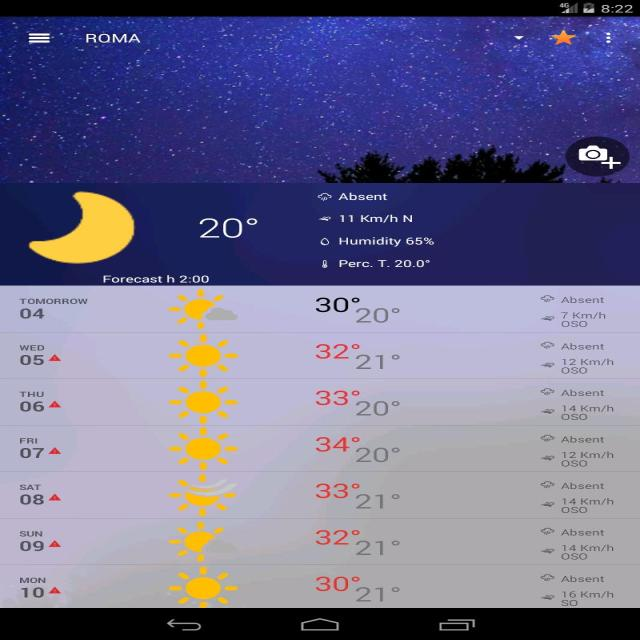button: (0, 519, 640, 568), (0, 472, 640, 519), (0, 426, 640, 472), (3, 333, 640, 379), (3, 380, 640, 426), (3, 287, 640, 331), (1, 569, 640, 607), (565, 136, 627, 173), (555, 26, 585, 50), (24, 29, 56, 50), (596, 27, 620, 49)
heading: (85, 29, 146, 47)
image: (3, 14, 639, 287), (165, 289, 240, 607), (24, 191, 153, 264)
text: (336, 188, 439, 273), (302, 382, 413, 418), (312, 524, 407, 563), (310, 430, 410, 467), (531, 523, 621, 564), (309, 476, 404, 514), (314, 338, 408, 374), (533, 431, 625, 467), (312, 573, 409, 606), (534, 477, 618, 515), (539, 384, 621, 422), (530, 292, 612, 329), (539, 337, 618, 375), (533, 573, 619, 607), (309, 294, 403, 324), (199, 208, 260, 251), (15, 295, 96, 321), (11, 389, 66, 419), (12, 524, 62, 557), (14, 341, 65, 371), (14, 435, 66, 464), (14, 480, 64, 509), (13, 574, 63, 600)
